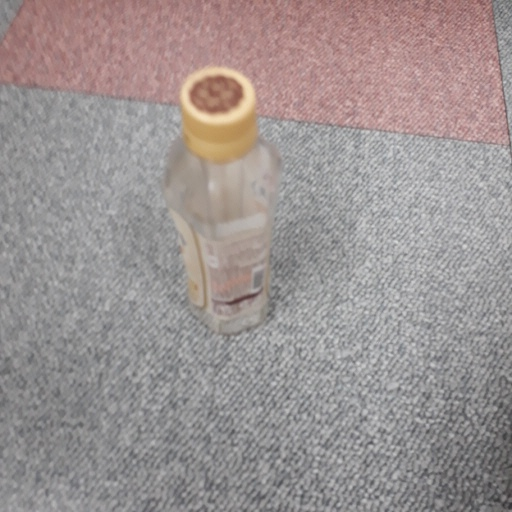Plastic_0: (163, 67, 286, 335)
